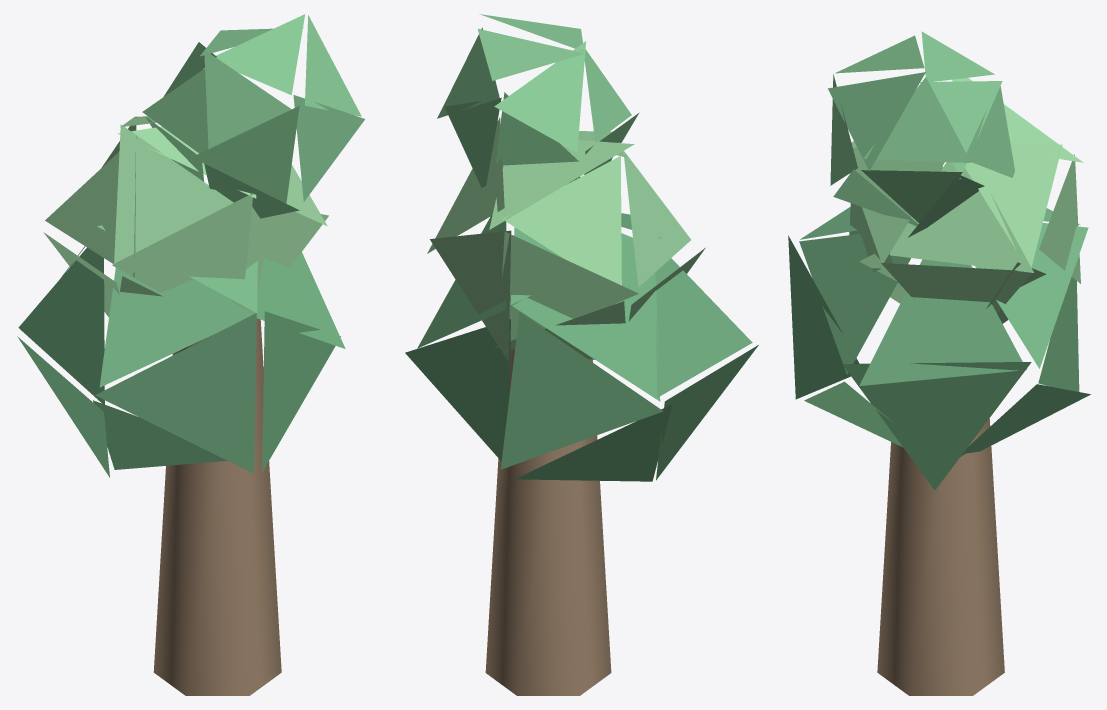
Rendered from tree_round_1.glb.
3 renders of one model, left to right at view 1: azimuth 30°, elevation 25°; view 2: azimuth 150°, elevation 25°; view 3: azimuth 270°, elevation 25°, orthographic.
Parts seen in each view (by area): view 1: tree_round_1; view 2: tree_round_1; view 3: tree_round_1.
Part boxes in pixels (x1=…): tree_round_1: x1=17, y1=14, x2=364, y2=695; tree_round_1: x1=405, y1=14, x2=758, y2=695; tree_round_1: x1=788, y1=31, x2=1090, y2=695.
Size of the model in its own units: 1.07 by 2.34 by 1.
